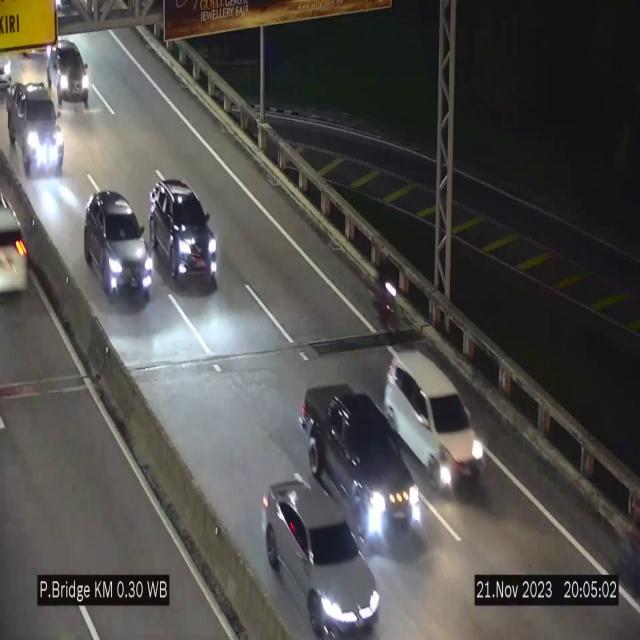Car: (303, 383, 422, 549), (262, 481, 380, 638), (384, 350, 487, 494), (149, 180, 218, 290), (84, 191, 152, 297), (7, 84, 67, 180), (0, 189, 36, 303), (47, 38, 93, 104)
Motorcycle: (372, 245, 402, 347)
